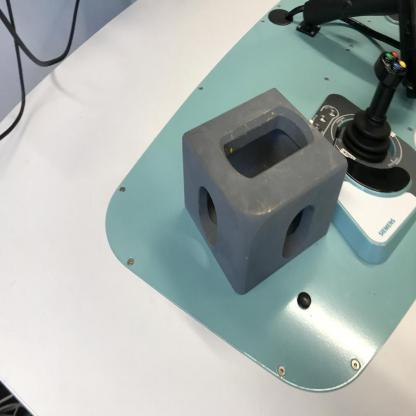CornerCasting: (177, 85, 351, 299)
